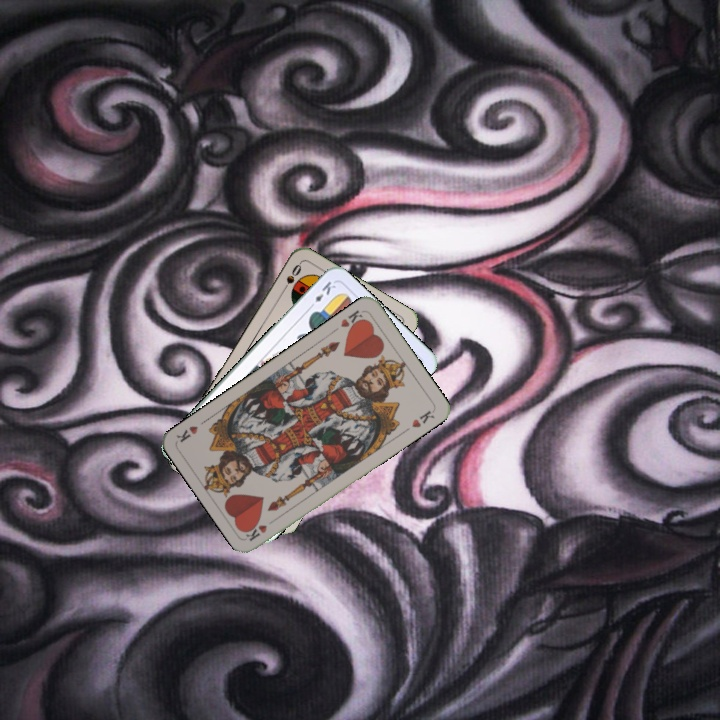EK: (305, 277, 338, 312)
HK: (242, 514, 280, 544), (337, 306, 368, 334)
SO: (277, 259, 304, 296)
